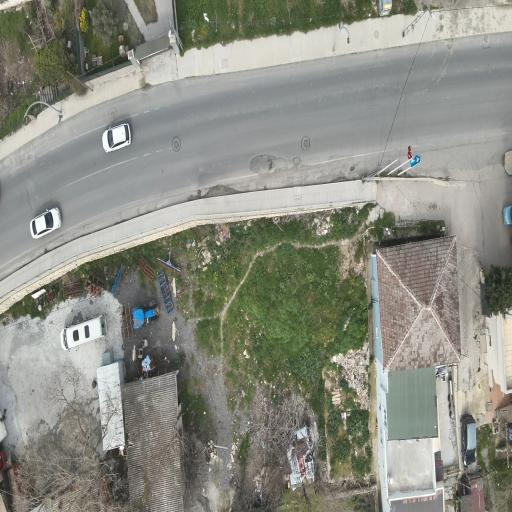car: (60, 314, 107, 350), (30, 208, 61, 238), (460, 415, 477, 466), (103, 124, 130, 152), (504, 150, 512, 175), (503, 206, 511, 226)
truck: (132, 301, 159, 329)
